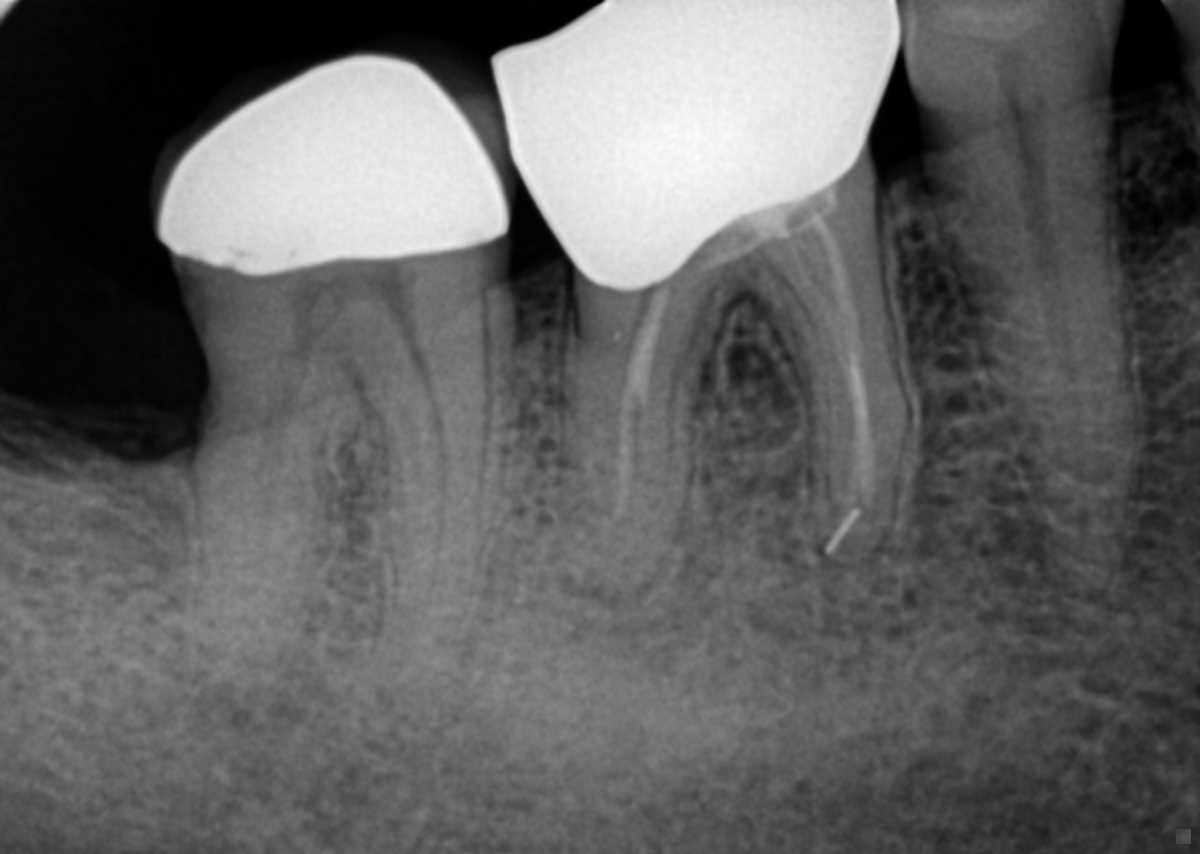Distal Canal: (257, 395, 299, 572)
Distal Root: (186, 369, 349, 694), (558, 295, 719, 606)
Main Canal: (1015, 142, 1089, 578)
Main Root: (936, 112, 1138, 598)
Mesial Canal: (334, 279, 491, 701), (411, 335, 451, 634)
Mesial Root: (706, 175, 913, 577)
Root Canal Filling: (768, 214, 876, 503), (614, 310, 667, 526)
decay: (918, 103, 971, 172)
